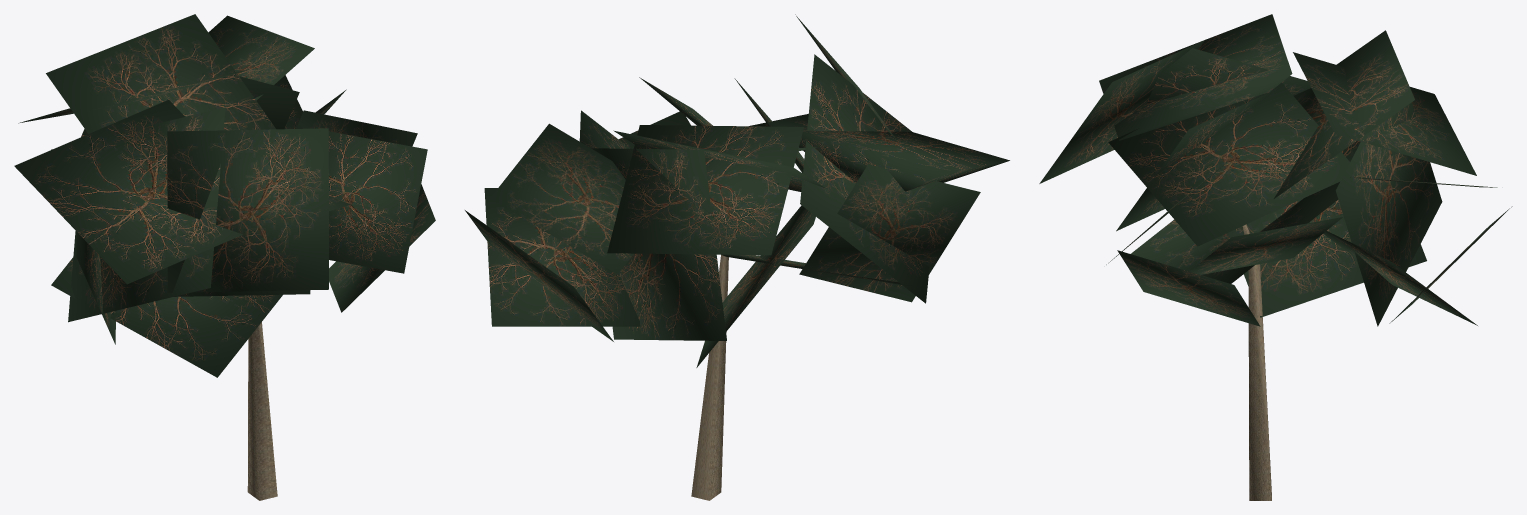
Rendered from decd_mapletreebranches_a2_l3.fbx.
The picture shows the model from 3 angles, left to right: view 1: azimuth 30°, elevation 25°; view 2: azimuth 150°, elevation 25°; view 3: azimuth 270°, elevation 25°; orthographic projection. The views are drawn at different scales.
Visible parts, largest first — view 1: mesh_node; view 2: mesh_node; view 3: mesh_node.
Boxes of the visible parts, <box> form: mesh_node: <box>14,14,435,500</box>; mesh_node: <box>465,14,1009,500</box>; mesh_node: <box>1039,14,1512,500</box>.
Bounding box in the file's own units: 26.61 × 27.7 × 28.7.
